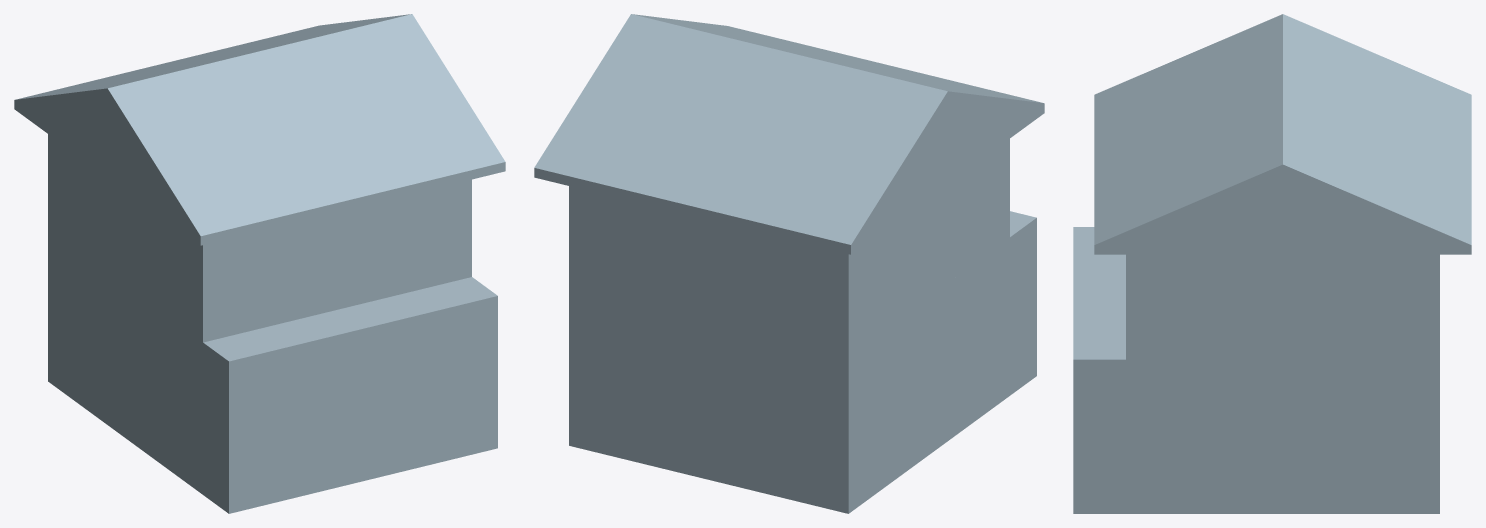
File: bo_shop_teahouse.fbx
3 views of the same model, side by side, from view 1: azimuth 30°, elevation 25°; view 2: azimuth 150°, elevation 25°; view 3: azimuth 270°, elevation 25° (orthographic). The views are drawn at different scales.
Parts seen in each view (by area): view 1: bo_shop_teahouse; view 2: bo_shop_teahouse; view 3: bo_shop_teahouse.
Boxes of the visible parts, bbox=[...] form: bo_shop_teahouse: bbox=[14, 14, 505, 513]; bo_shop_teahouse: bbox=[534, 14, 1044, 513]; bo_shop_teahouse: bbox=[1073, 14, 1471, 513].
Bounding box in the file's own units: 6.8 × 7.55 × 7.6.
1 material, 1 textured.
